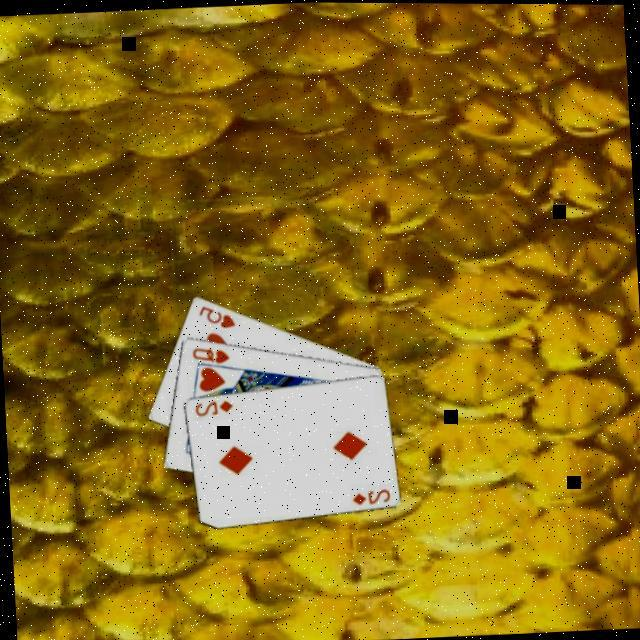2D: (192, 398, 236, 420), (350, 487, 394, 509)
5H: (196, 303, 238, 333)
QH: (190, 344, 232, 368)
